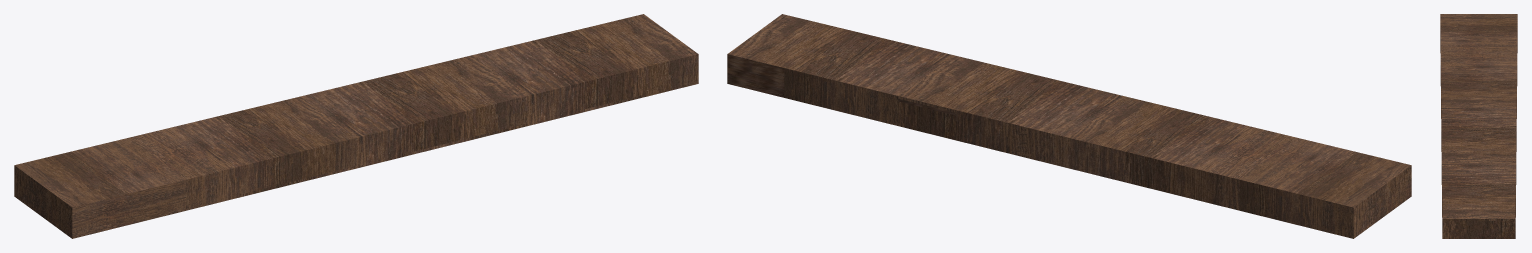
File: Madera3.fbx
3 renders of one model, left to right at view 1: azimuth 30°, elevation 25°; view 2: azimuth 150°, elevation 25°; view 3: azimuth 270°, elevation 25°, orthographic. The views are drawn at different scales.
Parts seen in each view (by area): view 1: Madera.003; view 2: Madera.003; view 3: Madera.003.
Part boxes in pixels (x1,y1,x2,y2): Madera.003: (14, 14, 698, 238); Madera.003: (727, 14, 1411, 238); Madera.003: (1440, 14, 1517, 238).
Size of the model in its own units: 1453 by 69.41 by 232.
